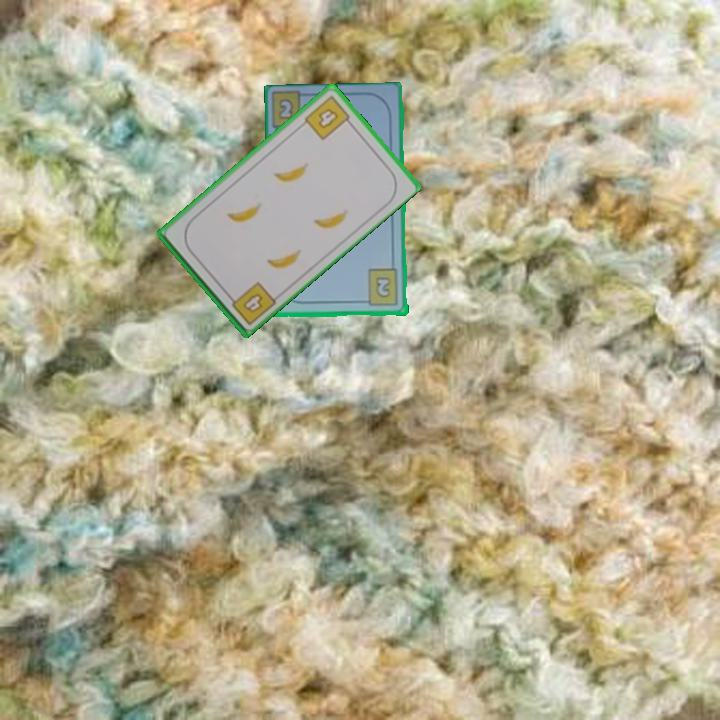2b: (359, 266, 401, 309), (275, 95, 296, 123)
4b: (301, 92, 356, 143), (223, 278, 279, 328)
